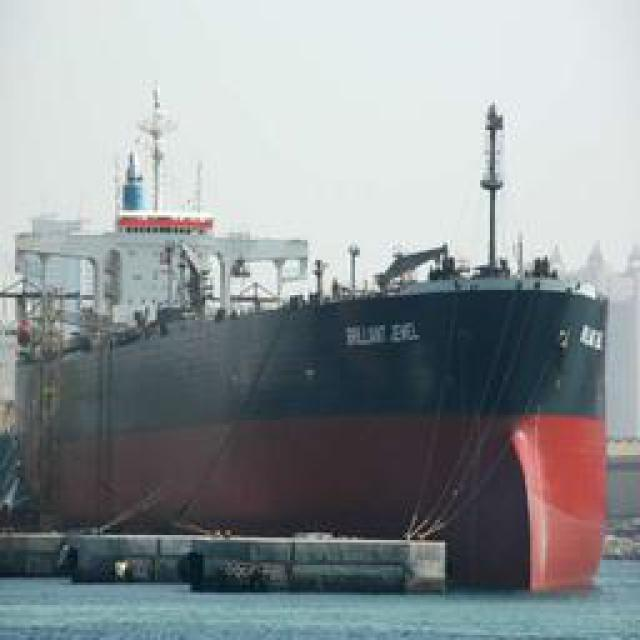Ship: (10, 134, 613, 567)
